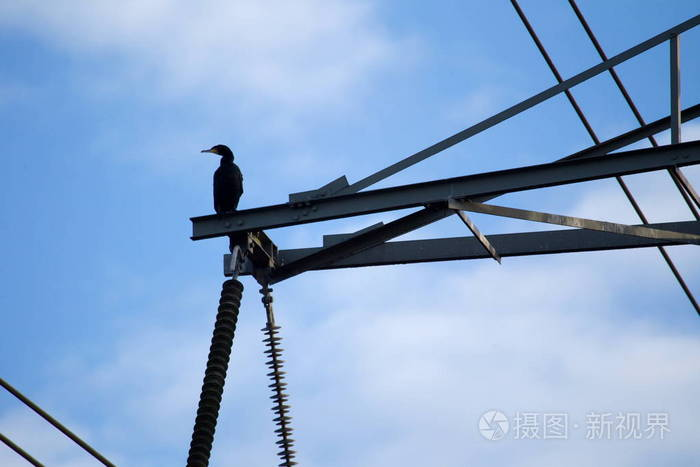insulator: (183, 277, 245, 467), (259, 322, 300, 467)
